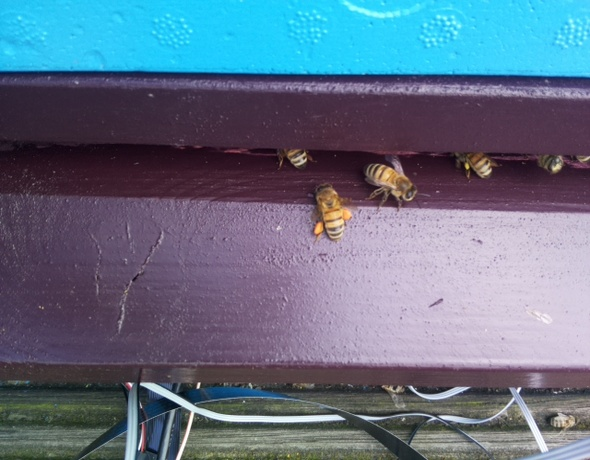no_pollen: (359, 158, 424, 212), (272, 144, 317, 172), (534, 150, 567, 178)
pollen: (305, 178, 355, 244), (448, 144, 499, 183)
